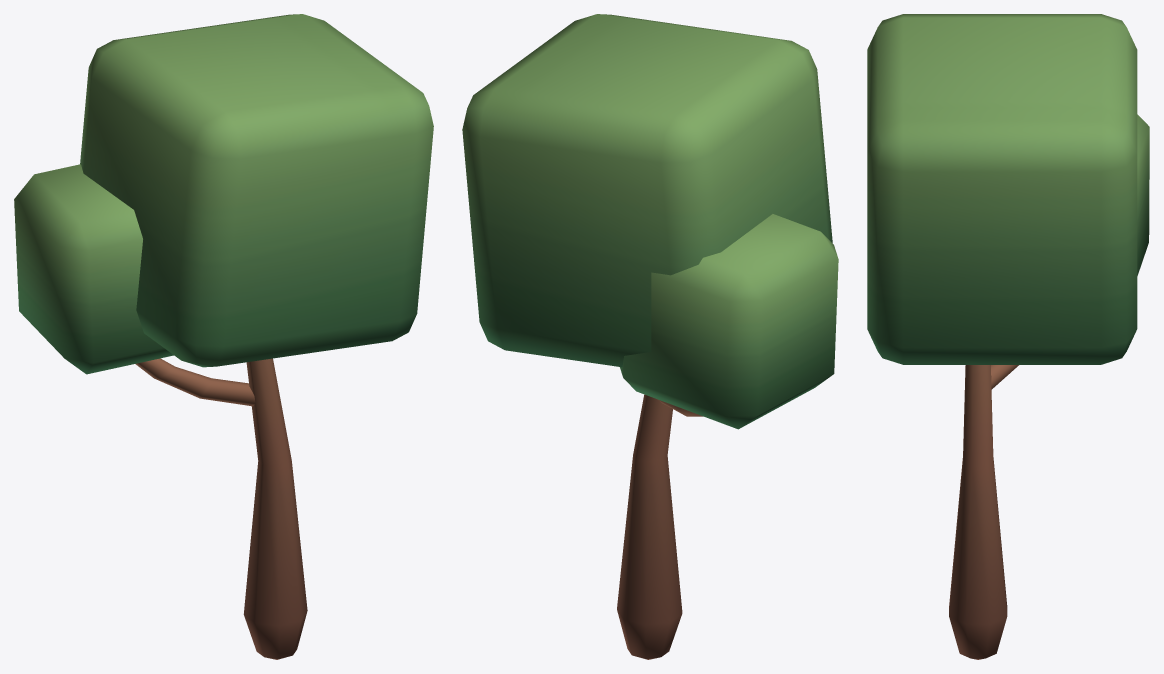
File: tree_2_a-BP2Us3Mj.glb
The picture shows the model from 3 angles, left to right: view 1: azimuth 30°, elevation 25°; view 2: azimuth 150°, elevation 25°; view 3: azimuth 270°, elevation 25°; orthographic projection. The views are drawn at different scales.
Parts seen in each view (by area): view 1: Tree_2_A_Color1; view 2: Tree_2_A_Color1; view 3: Tree_2_A_Color1.
Boxes of the visible parts, x1,y1,x2,y2 form: Tree_2_A_Color1: [14, 14, 433, 659]; Tree_2_A_Color1: [462, 14, 838, 659]; Tree_2_A_Color1: [867, 14, 1149, 659].
Size of the model in its own units: 3.38 by 6.08 by 2.6.
1 material, 1 textured.
